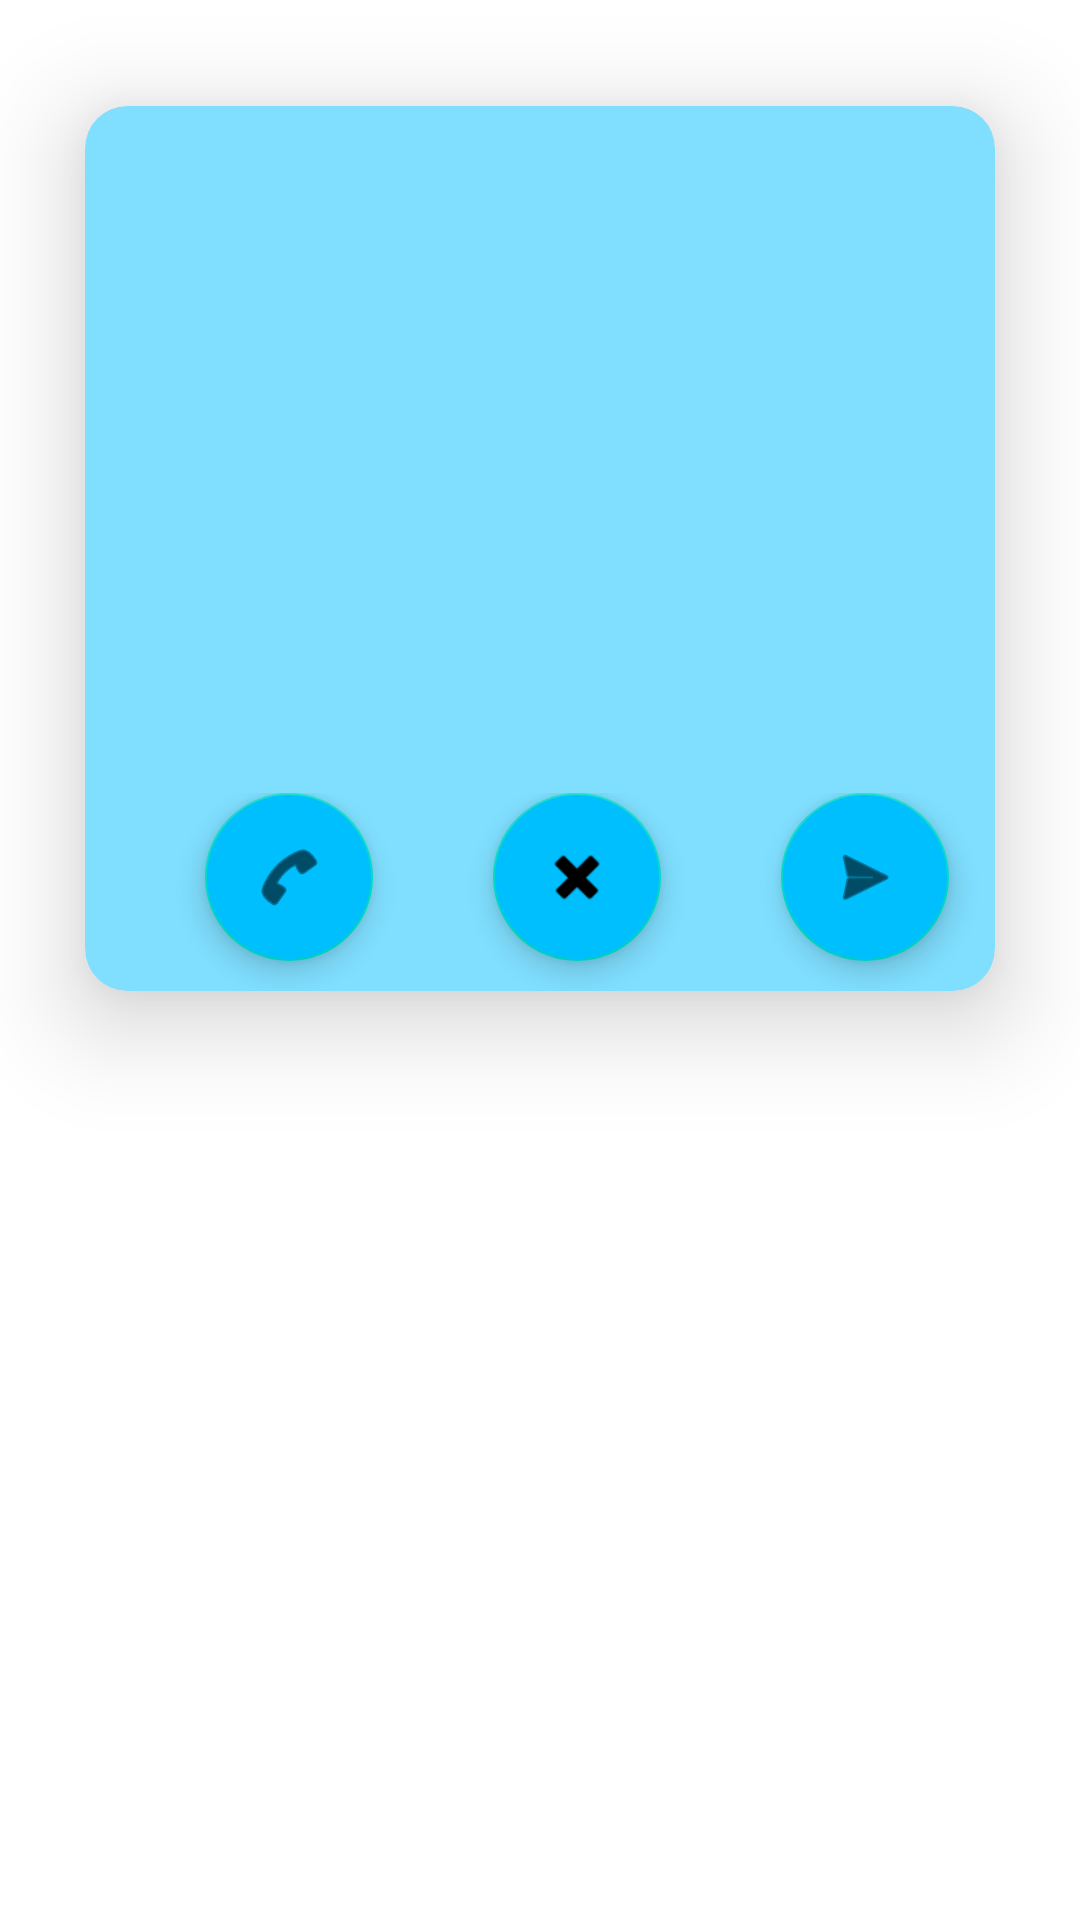

Locate icon controls on the screen. Image size 1080×1920, boxes as (x1, y1, x2, y2).
call: (205, 793, 373, 961)
delete: (493, 793, 661, 961)
send: (781, 793, 949, 961)
